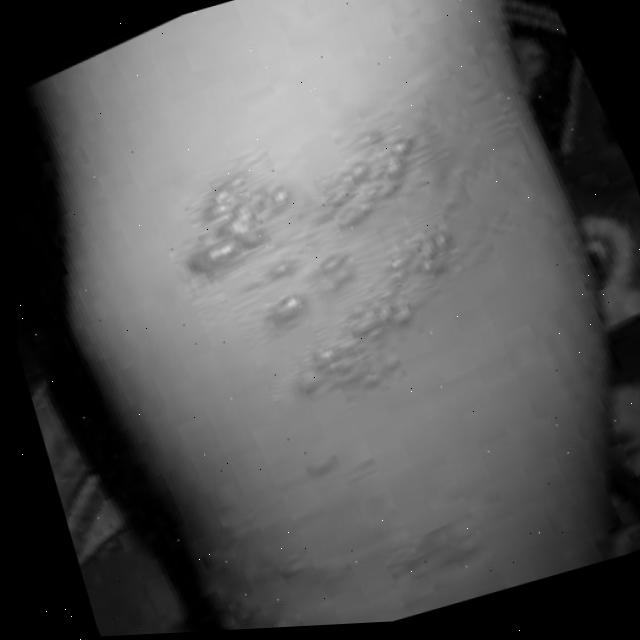Shingles: (164, 104, 501, 429), (214, 461, 494, 630)
